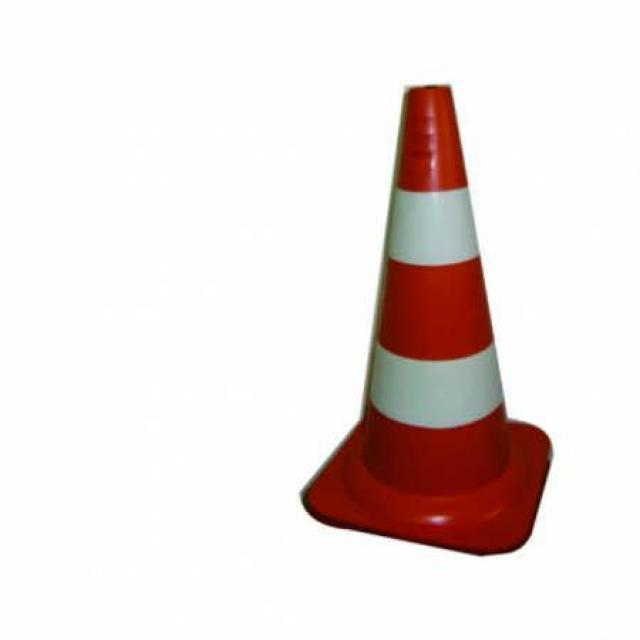traffic cone: (300, 84, 552, 556)
traffic light: (299, 83, 553, 555)
